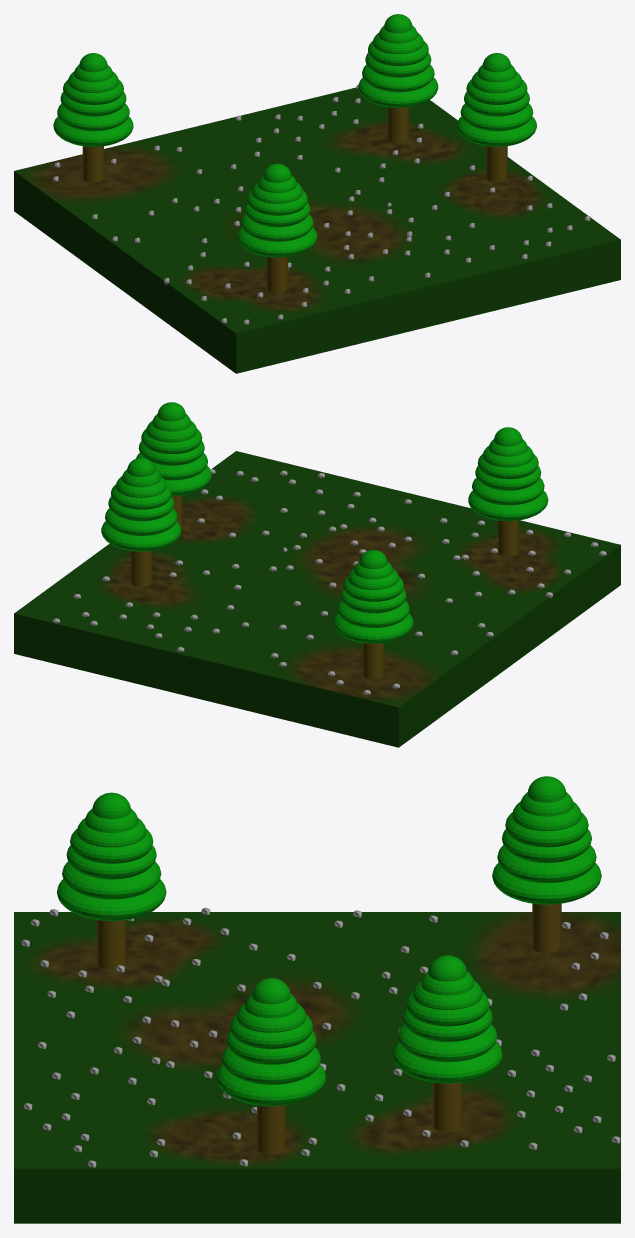
The model's file is forest.gltf.
The picture shows the model from 3 angles, top to bottom: view 1: azimuth 30°, elevation 25°; view 2: azimuth 150°, elevation 25°; view 3: azimuth 270°, elevation 25°; orthographic projection. The views are drawn at different scales.
Visible parts, largest first — view 1: Cube.001, Cube, Sphere.008, Sphere.003, Sphere.007, Sphere.009; view 2: Cube.001, Cube, Sphere.009, Sphere.003, Sphere.008, Sphere.007; view 3: Cube.001, Cube, Sphere.009, Sphere.003, Sphere.008, Sphere.007.
Boxes of the visible parts, <box> form: Cube.001: <box>14,87,620,333</box>; Cube: <box>14,171,620,373</box>; Sphere.008: <box>237,163,317,292</box>; Sphere.003: <box>53,53,133,182</box>; Sphere.007: <box>457,53,536,182</box>; Sphere.009: <box>358,14,438,143</box>; Cube.001: <box>14,451,620,707</box>; Cube: <box>14,545,620,747</box>; Sphere.009: <box>101,457,181,587</box>; Sphere.003: <box>333,550,413,679</box>; Sphere.008: <box>468,427,548,556</box>; Sphere.007: <box>136,402,211,528</box>; Cube.001: <box>14,912,620,1168</box>; Cube: <box>14,1168,620,1223</box>; Sphere.009: <box>393,955,502,1132</box>; Sphere.003: <box>492,776,601,952</box>; Sphere.008: <box>57,792,166,969</box>; Sphere.007: <box>216,978,326,1154</box>.
Size of the model in its own units: 20.36 by 8.14 by 20.
4 materials, 1 textured.
